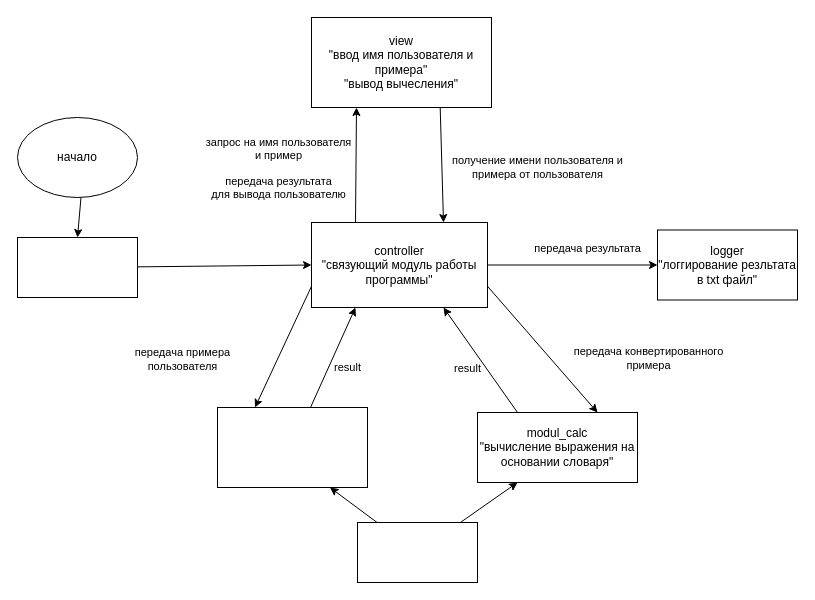
Image size: 815x600. Some labels were removed from this diagram. The shapes that lost their labels are listed below. From the top down, each one's box as (x1, y1, x2, y2) in pixels, then its label:
(16, 236, 138, 298): main "запуск программы"
(216, 406, 368, 488): modul_conv "перевод выражения в список на основании словарей"
(356, 522, 478, 582): slovari "списки скобок и операций"
